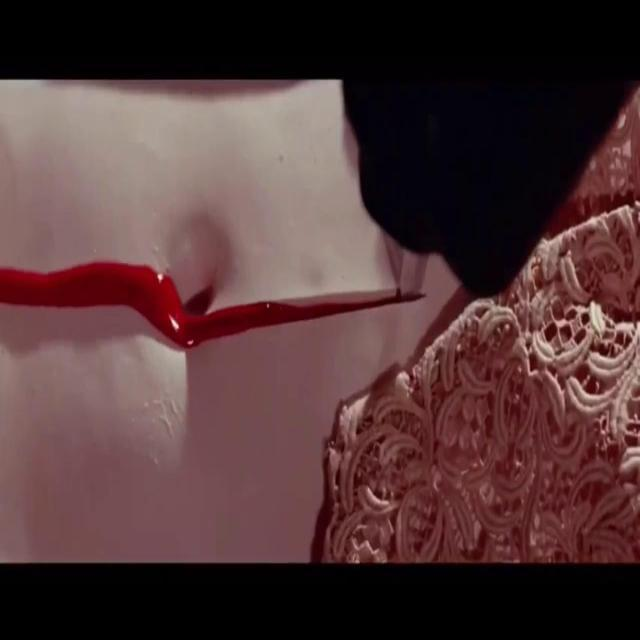flood: (0, 242, 432, 358)
